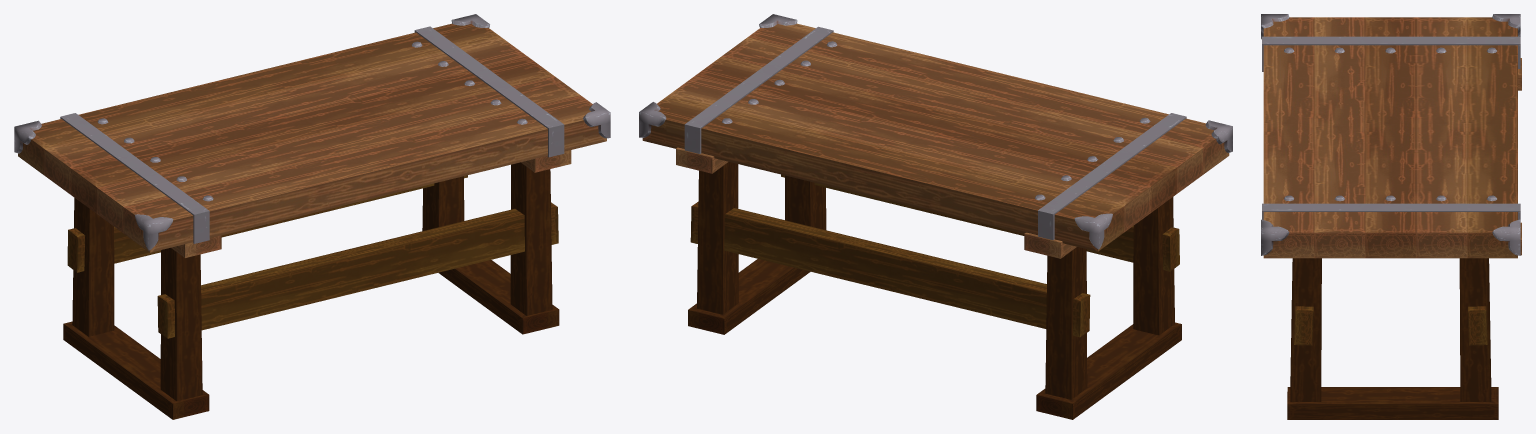
Rendered from Workbench.gltf.
The picture shows the model from 3 angles, left to right: view 1: azimuth 30°, elevation 25°; view 2: azimuth 150°, elevation 25°; view 3: azimuth 270°, elevation 25°; orthographic projection. The views are drawn at different scales.
Visible parts, largest first — view 1: Workbench; view 2: Workbench; view 3: Workbench.
Boxes of the visible parts, x1=… form: Workbench: x1=14, y1=14, x2=610, y2=419; Workbench: x1=639, y1=14, x2=1232, y2=419; Workbench: x1=1261, y1=14, x2=1521, y2=419.
Size of the model in its own units: 2.02 by 0.8946 by 1.02.
2 materials, 2 textured.
